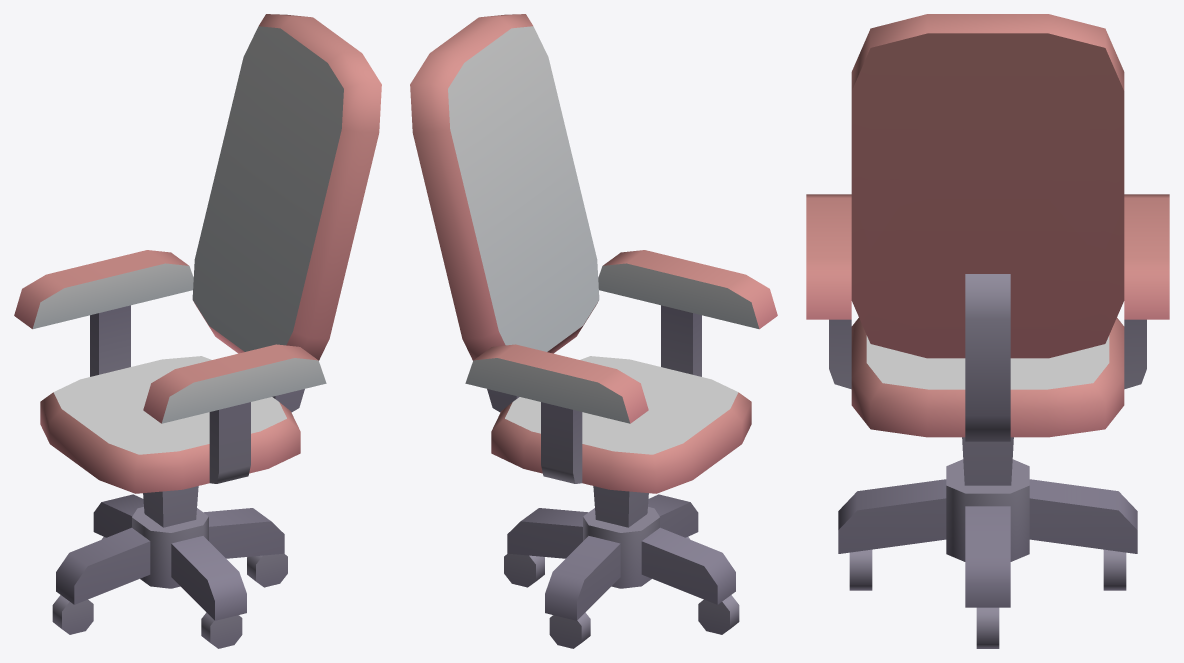
The model's file is desk-chair-gamer.glb.
3 renders of one model, left to right at view 1: azimuth 30°, elevation 25°; view 2: azimuth 150°, elevation 25°; view 3: azimuth 270°, elevation 25°, orthographic. The views are drawn at different scales.
Parts seen in each view (by area): view 1: desk-chair-gamer; view 2: desk-chair-gamer; view 3: desk-chair-gamer.
Part boxes in pixels (x1,y1,x2,y2): desk-chair-gamer: (14,14,381,648); desk-chair-gamer: (410,14,777,648); desk-chair-gamer: (806,14,1169,648).
Size of the model in its own units: 0.5269 by 0.9613 by 0.48.
